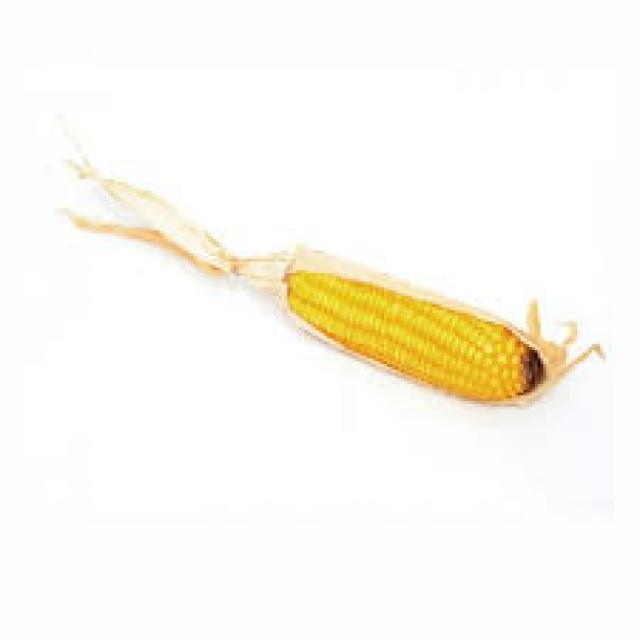organic waste: (60, 139, 600, 404), (279, 245, 540, 401)
